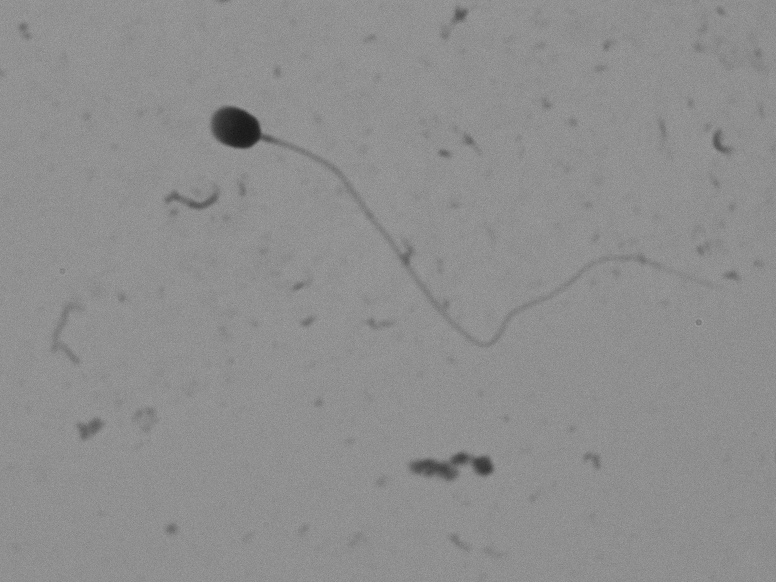Normal: (174, 58, 734, 400)
